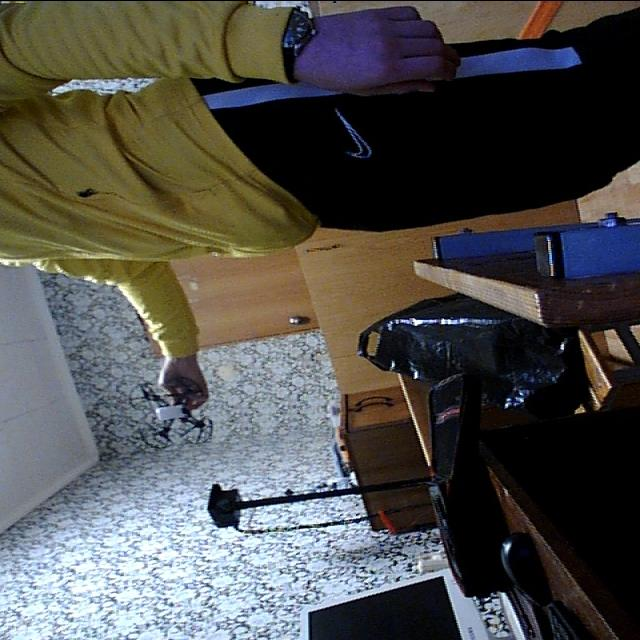drone: (119, 368, 224, 453)
